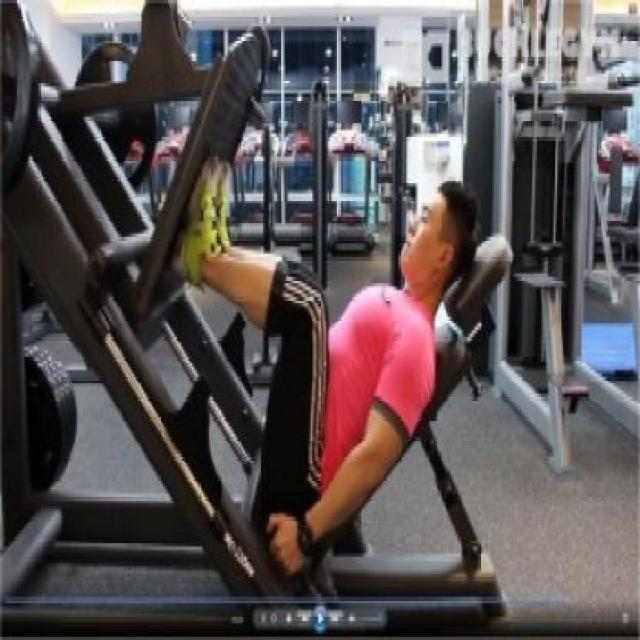leg press: (2, 0, 523, 640)
